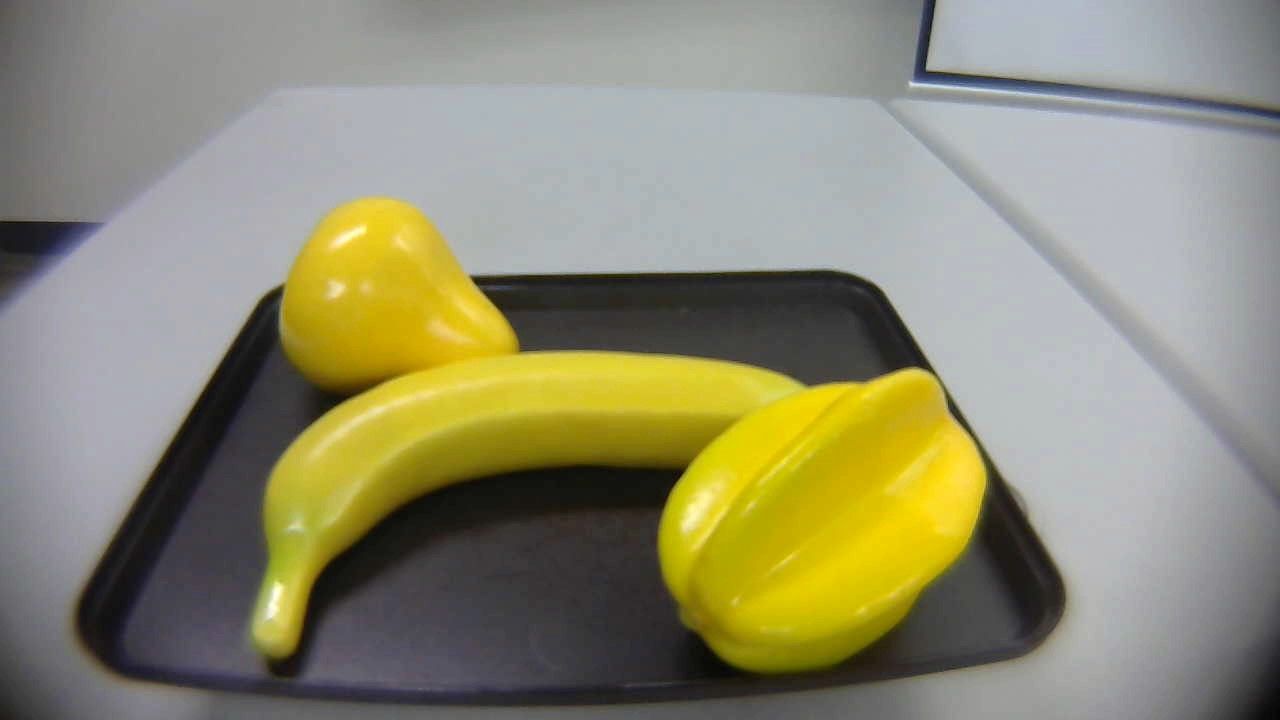banana: (233, 347, 843, 673)
star fruit: (658, 363, 997, 684)
yellow pear: (274, 191, 538, 393)
